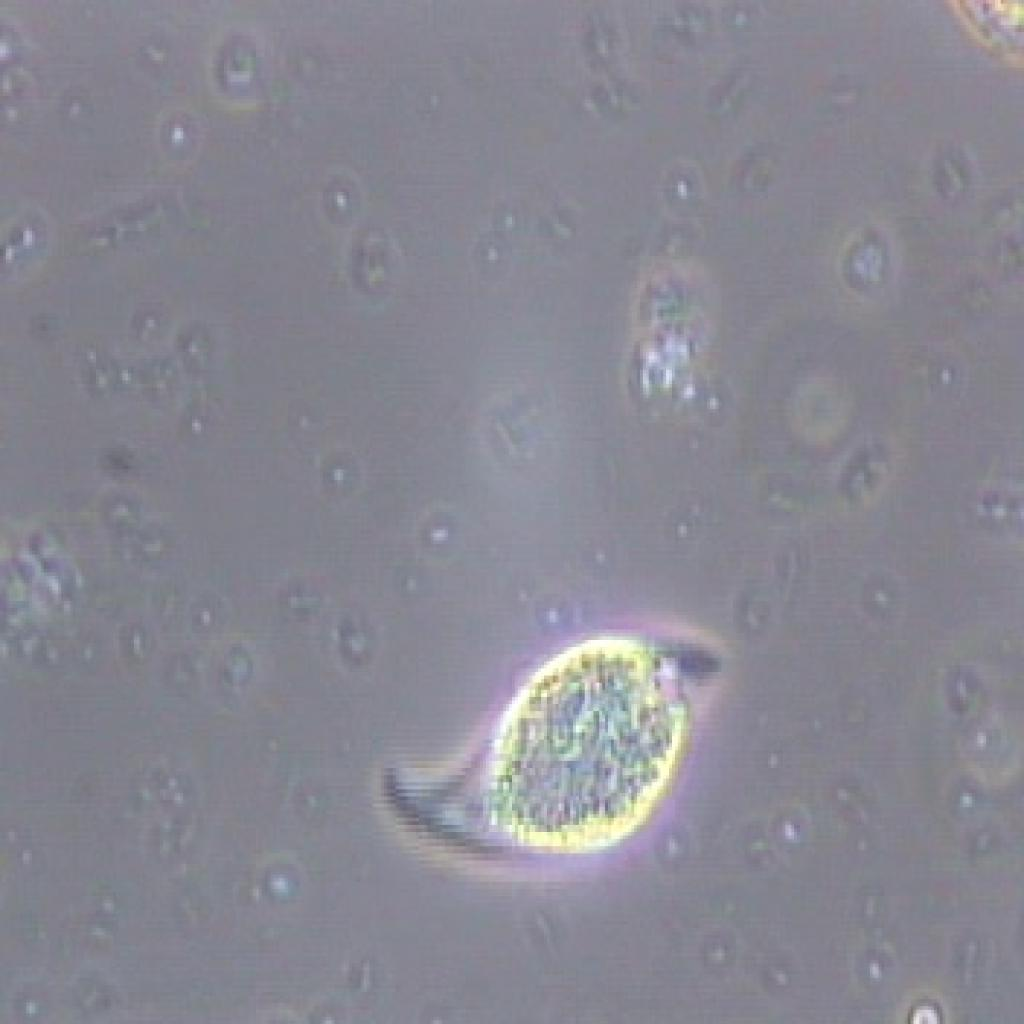Pristina: (340, 608, 742, 875)
